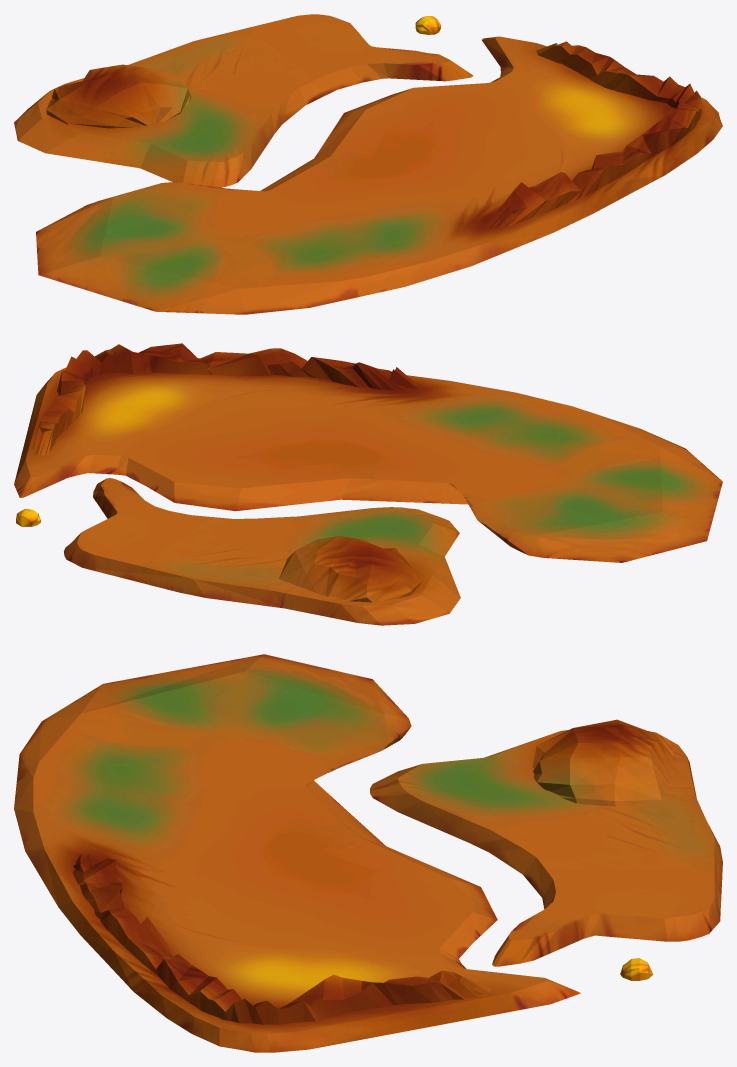
Rendered from Island.glb.
3 renders of one model, top to bottom at view 1: azimuth 30°, elevation 25°; view 2: azimuth 150°, elevation 25°; view 3: azimuth 270°, elevation 25°, orthographic. The views are drawn at different scales.
Parts seen in each view (by area): view 1: Island; view 2: Island; view 3: Island.
Boxes of the visible parts, bbox=[...] form: Island: bbox=[14, 14, 722, 314]; Island: bbox=[14, 343, 722, 625]; Island: bbox=[14, 654, 722, 1052].
Bounding box in the file's own units: 583 × 41.03 × 438.
Materials: 1 (1 with a texture image).
